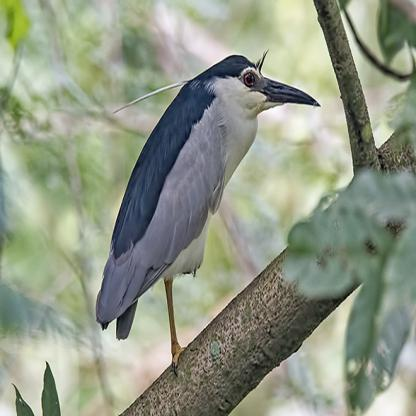Burung: (94, 54, 321, 370)
